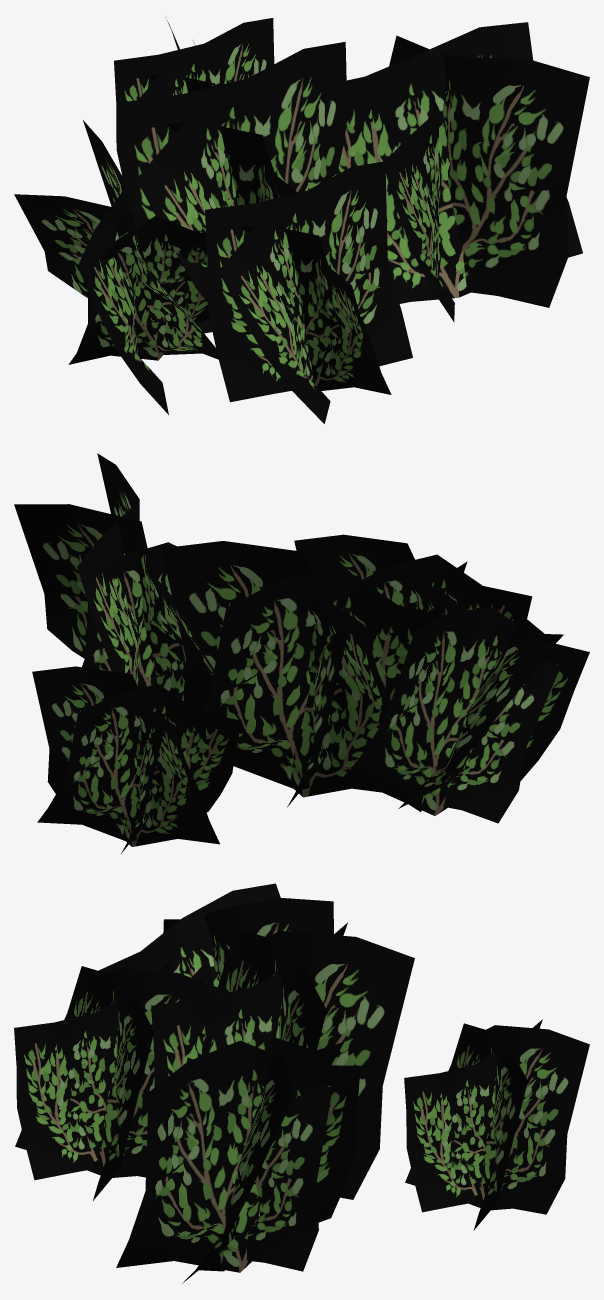
The model's file is SM_bush_leaves - Copy.fbx.
3 views of the same model, one above another, from view 1: azimuth 30°, elevation 25°; view 2: azimuth 150°, elevation 25°; view 3: azimuth 270°, elevation 25° (orthographic).
Parts seen in each view (by area): view 1: Plane204; view 2: Plane204; view 3: Plane204.
Boxes of the visible parts, x1,y1,x2,y2 form: Plane204: [14, 18, 589, 423]; Plane204: [14, 453, 589, 853]; Plane204: [14, 883, 589, 1283].
Bounding box in the file's own units: 86.03 × 40.04 × 82.16.
